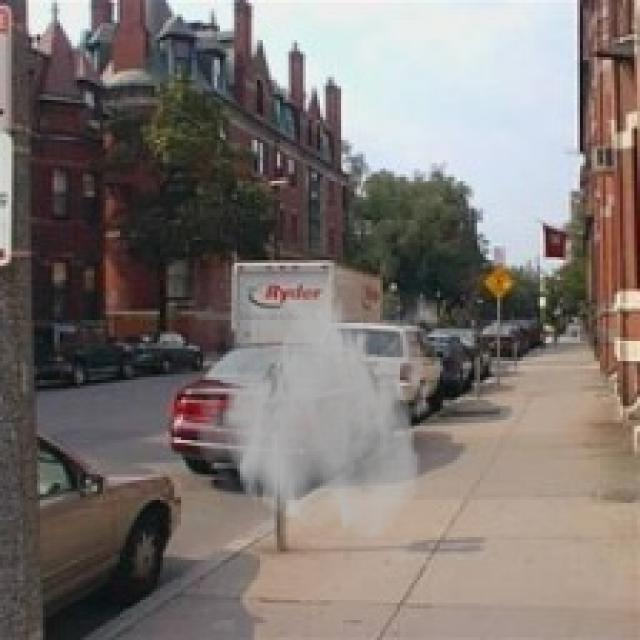Smoke: (188, 268, 448, 546)
